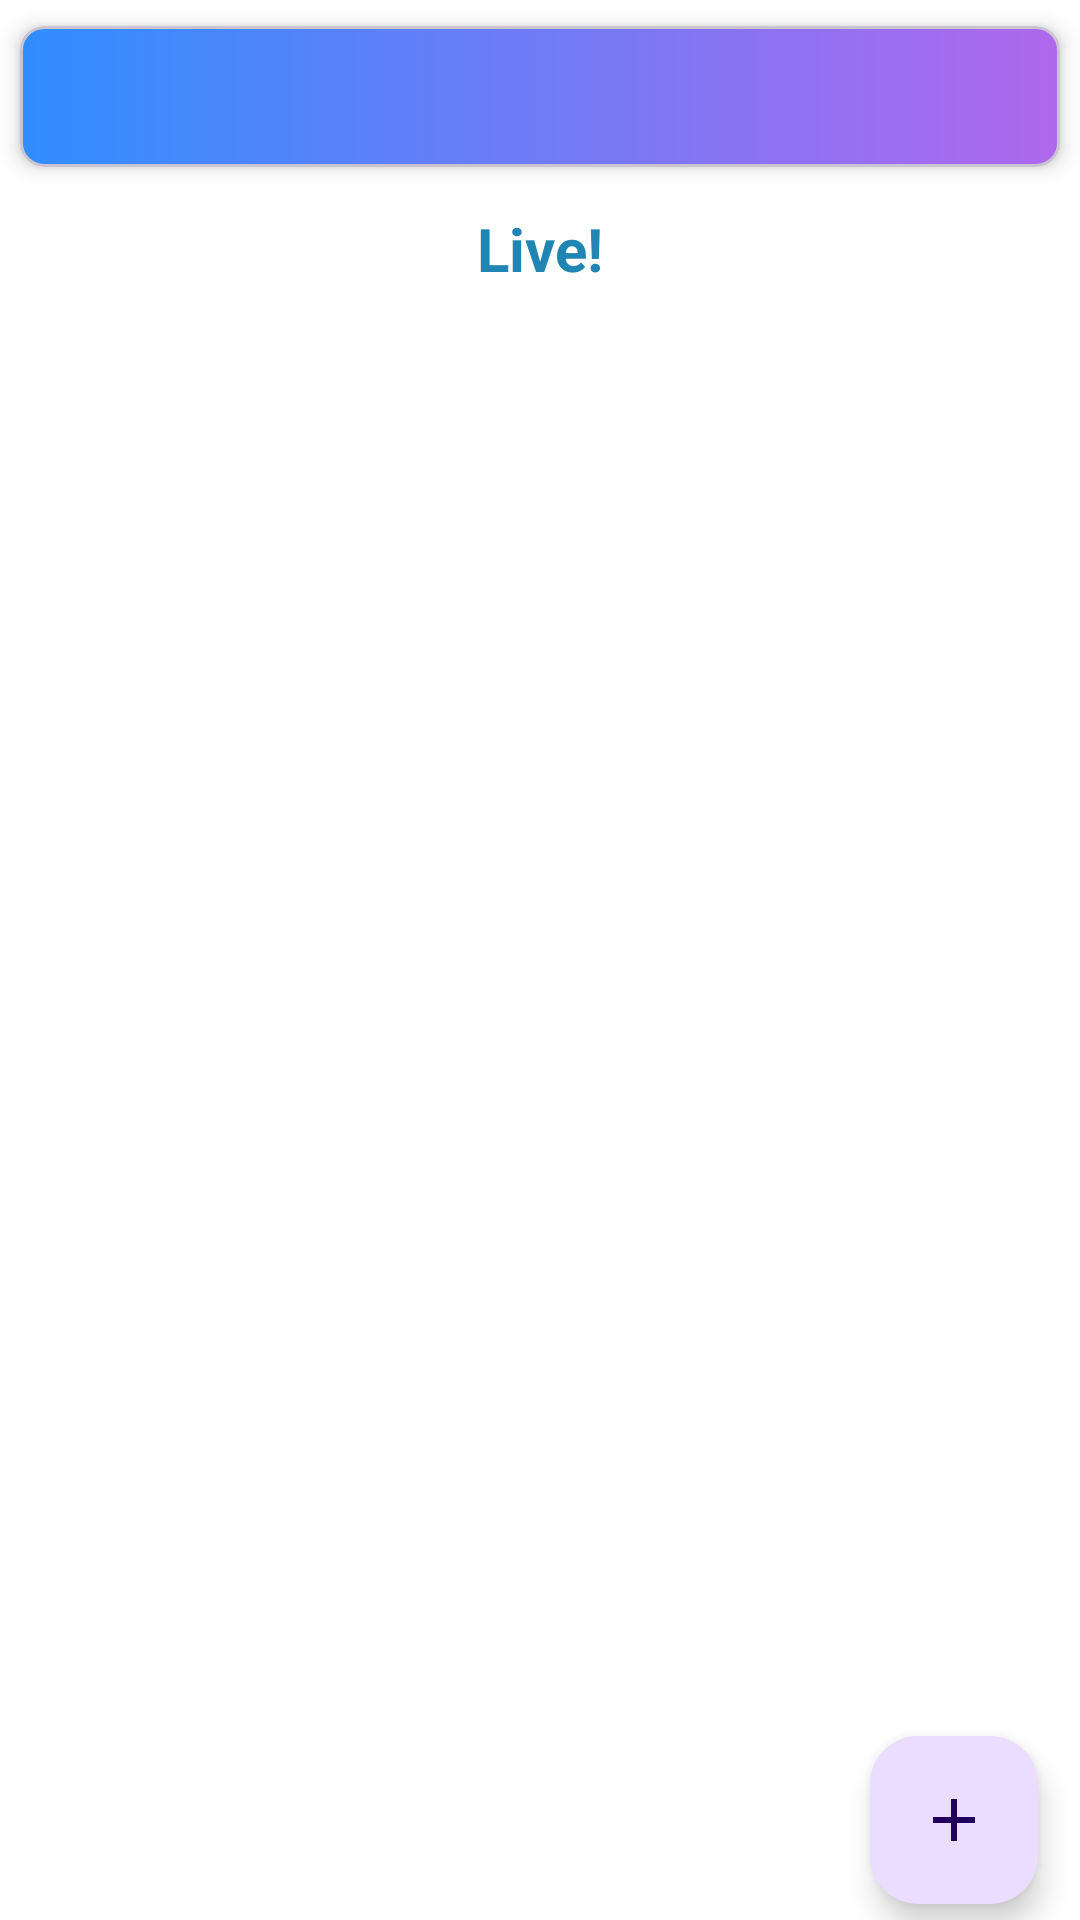

Icon click points for this 1080*1920 phone screenshot, format point (x, y):
add: point (954, 1820)
